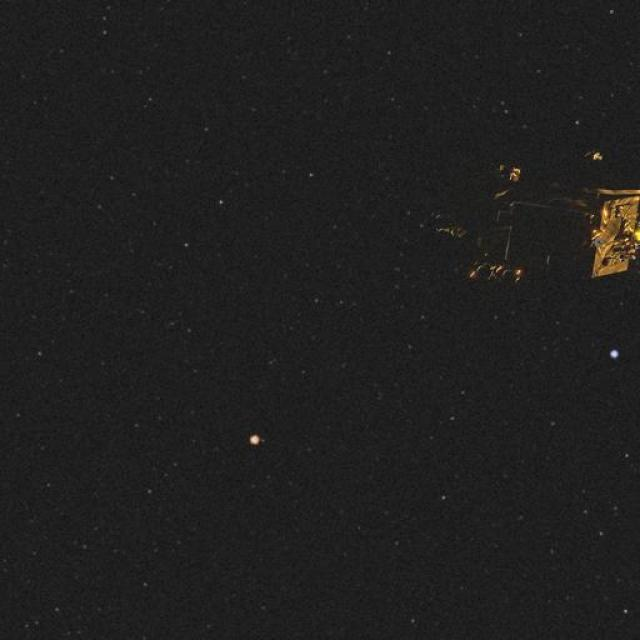lisa_pathfinder: (426, 126, 640, 312)
